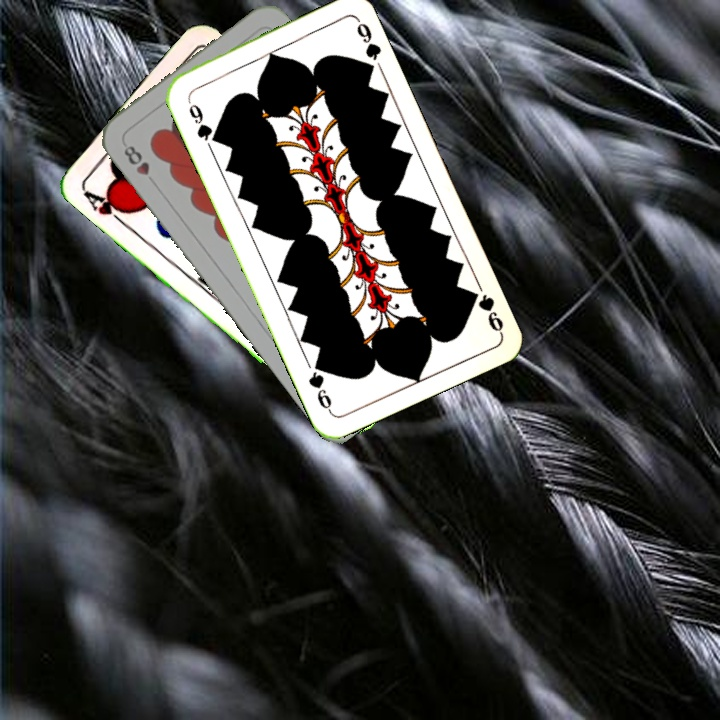G9: (463, 285, 506, 336), (183, 94, 221, 146)
H8: (119, 138, 153, 179)
HA: (79, 185, 132, 229)
